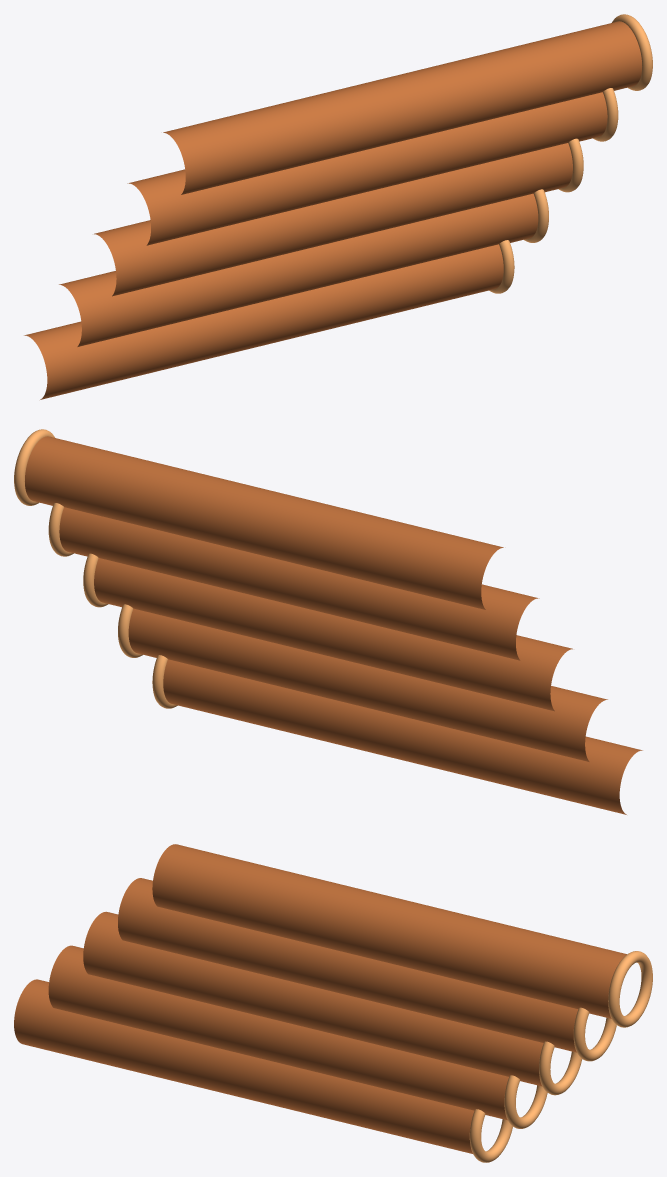
The model's file is copper-tubes.glb.
3 renders of one model, top to bottom at view 1: azimuth 30°, elevation 25°; view 2: azimuth 150°, elevation 25°; view 3: azimuth 330°, elevation 25°, orthographic.
Visible parts, largest first — view 1: copper-tubes; view 2: copper-tubes; view 3: copper-tubes.
Boxes of the visible parts, x1,y1,x2,y2 form: copper-tubes: (24, 14, 652, 399); copper-tubes: (14, 429, 642, 814); copper-tubes: (14, 844, 652, 1162).
Size of the model in its own units: 4.2 by 1.59 by 0.47.
